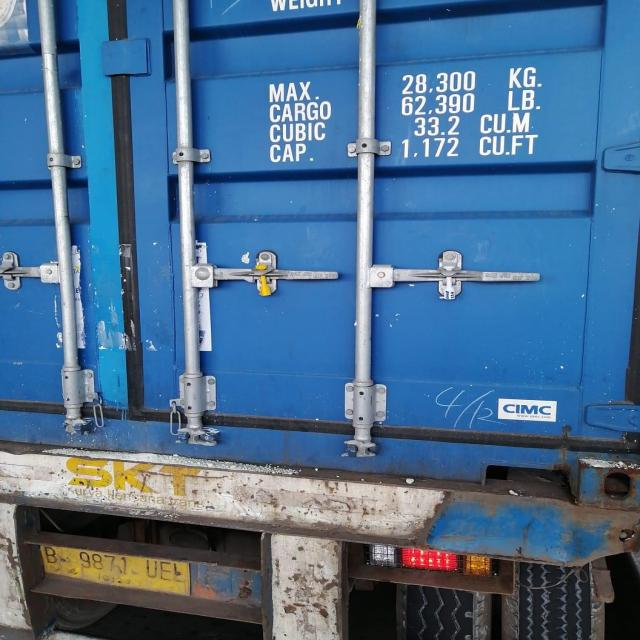seal: (251, 262, 278, 298)
